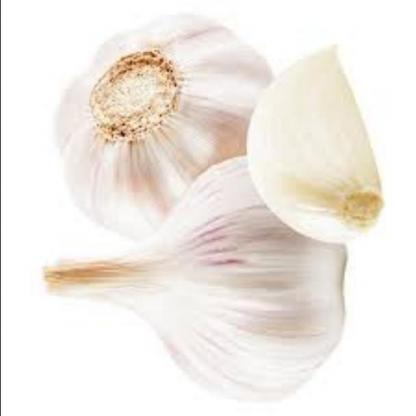garlic: (29, 161, 350, 414), (38, 13, 281, 250), (244, 24, 388, 258)
